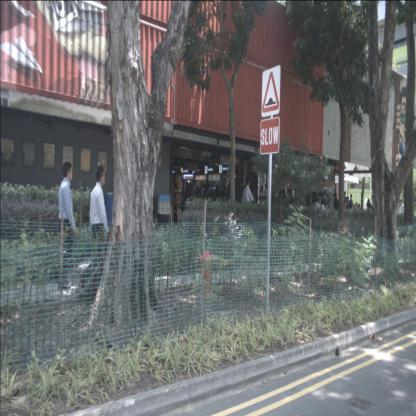human-pedestrian-adult: (89, 164, 111, 290), (58, 162, 78, 290), (241, 176, 256, 238), (173, 171, 184, 230), (236, 178, 244, 224), (259, 185, 267, 220), (396, 199, 402, 234), (343, 190, 349, 223), (263, 184, 269, 217), (313, 198, 320, 220), (334, 194, 339, 223), (366, 203, 372, 225), (348, 194, 353, 220), (320, 198, 326, 219), (343, 200, 348, 220)
